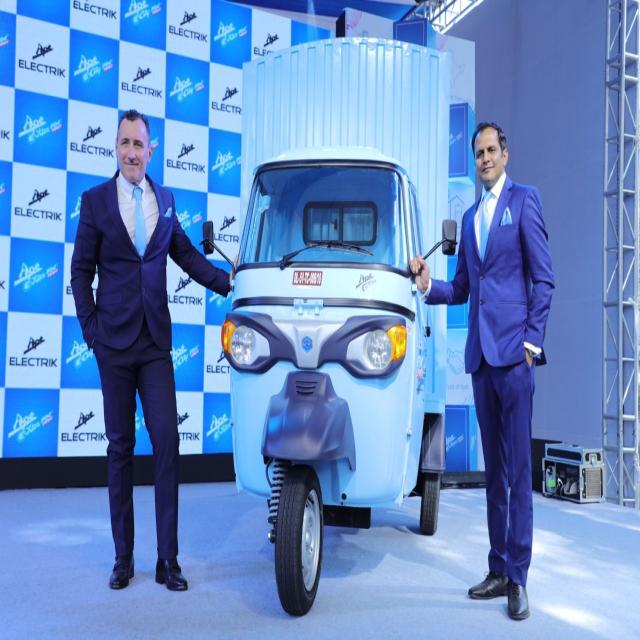autorickshaw: (221, 38, 450, 615)
